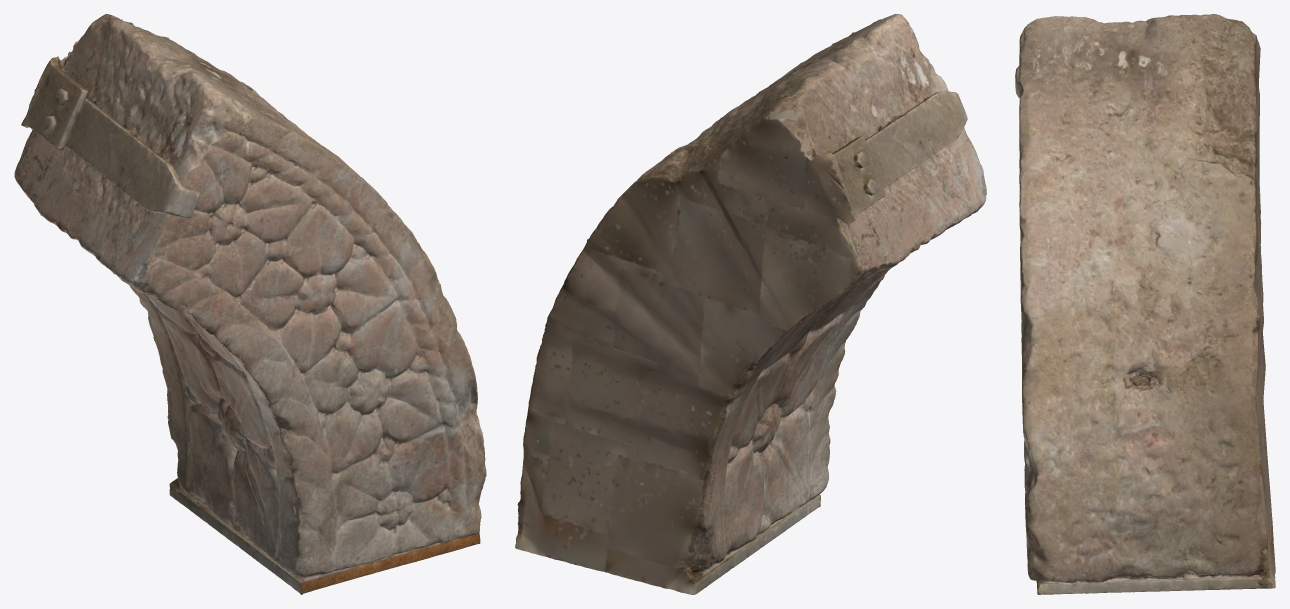
File: preview.glb
3 views of the same model, side by side, from view 1: azimuth 30°, elevation 25°; view 2: azimuth 150°, elevation 25°; view 3: azimuth 270°, elevation 25° (orthographic). The views are drawn at different scales.
Parts seen in each view (by area): view 1: default_n3d; view 2: default_n3d; view 3: default_n3d.
Boxes of the visible parts, left/top/right/bottom form: default_n3d: left=14, top=14, right=486, bottom=594; default_n3d: left=515, top=14, right=986, bottom=594; default_n3d: left=1015, top=14, right=1275, bottom=594.
Size of the model in its own units: 0.3007 by 0.4213 by 0.2119.
1 material, 1 textured.
